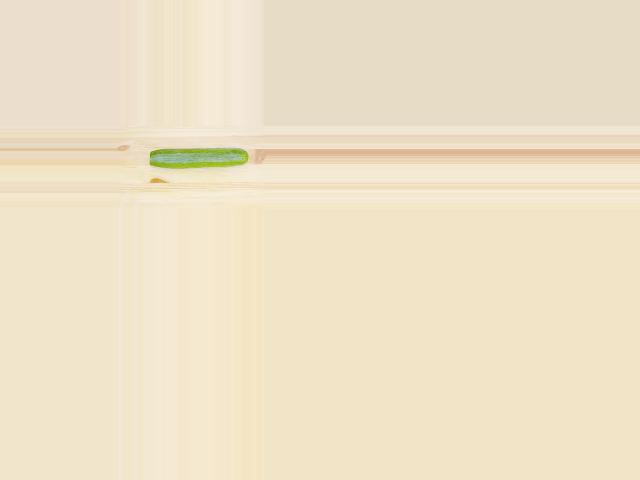cucumber: (150, 148, 248, 168)
